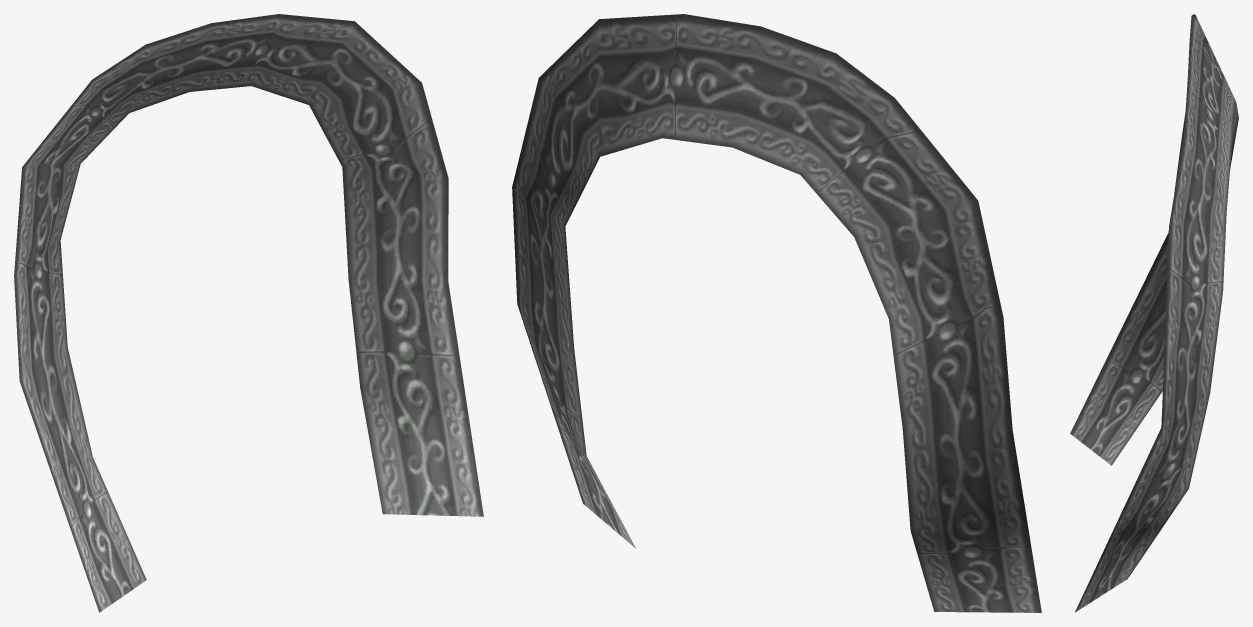
Rendered from EKH_JAIL_PS_JA_DOOR_TRIM39387.fbx.
3 views of the same model, side by side, from view 1: azimuth 30°, elevation 25°; view 2: azimuth 150°, elevation 25°; view 3: azimuth 270°, elevation 25° (orthographic). The views are drawn at different scales.
Parts seen in each view (by area): view 1: EKH_JAIL_PS_JA_DOOR_TRIM39387; view 2: EKH_JAIL_PS_JA_DOOR_TRIM39387; view 3: EKH_JAIL_PS_JA_DOOR_TRIM39387.
Boxes of the visible parts, x1,y1,x2,y2 form: EKH_JAIL_PS_JA_DOOR_TRIM39387: [14, 14, 483, 612]; EKH_JAIL_PS_JA_DOOR_TRIM39387: [512, 14, 1041, 612]; EKH_JAIL_PS_JA_DOOR_TRIM39387: [1070, 14, 1238, 612].
Bounding box in the file's own units: 15570 × 17462 × 5619.
Materials: 1 (1 with a texture image).
